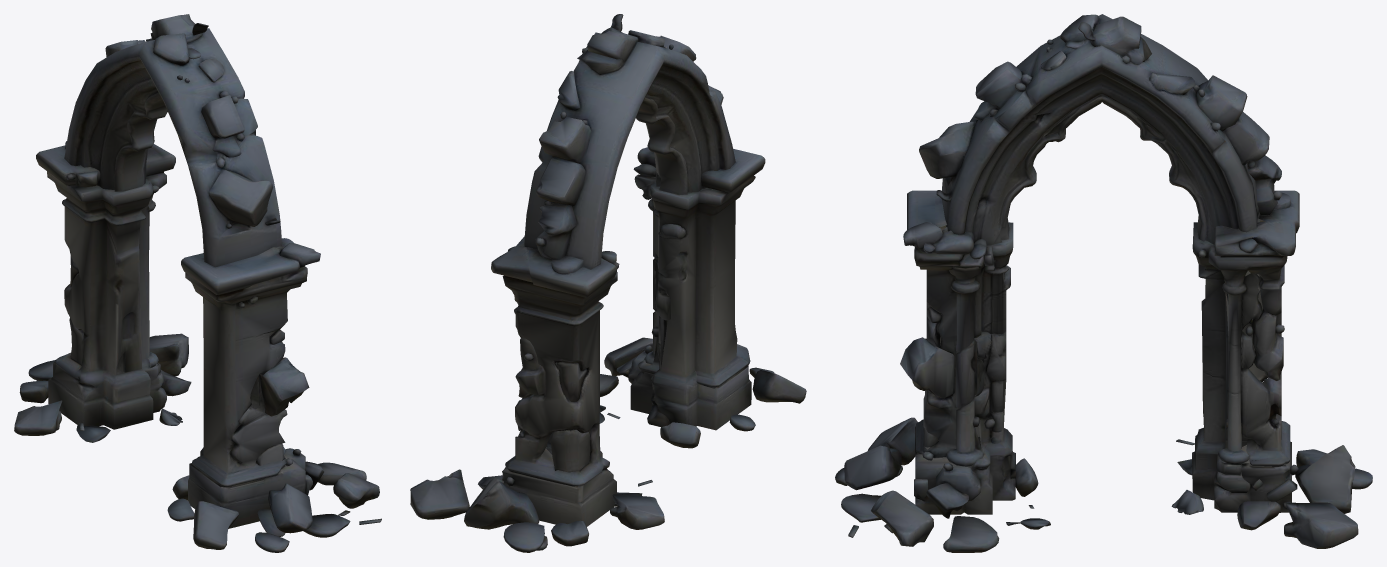
The model's file is archway.glb.
3 renders of one model, left to right at view 1: azimuth 30°, elevation 25°; view 2: azimuth 150°, elevation 25°; view 3: azimuth 270°, elevation 25°, orthographic. The views are drawn at different scales.
Visible parts, largest first — view 1: tripo_node_8c2fef62-5703-4464-951e-6d444f50ba2e; view 2: tripo_node_8c2fef62-5703-4464-951e-6d444f50ba2e; view 3: tripo_node_8c2fef62-5703-4464-951e-6d444f50ba2e.
Boxes of the visible parts, bbox=[...] form: tripo_node_8c2fef62-5703-4464-951e-6d444f50ba2e: bbox=[14, 14, 381, 552]; tripo_node_8c2fef62-5703-4464-951e-6d444f50ba2e: bbox=[410, 14, 806, 552]; tripo_node_8c2fef62-5703-4464-951e-6d444f50ba2e: bbox=[835, 14, 1372, 552].
Bounding box in the file's own units: 0.5083 × 0.9985 × 0.9995.
1 material, 1 textured.
